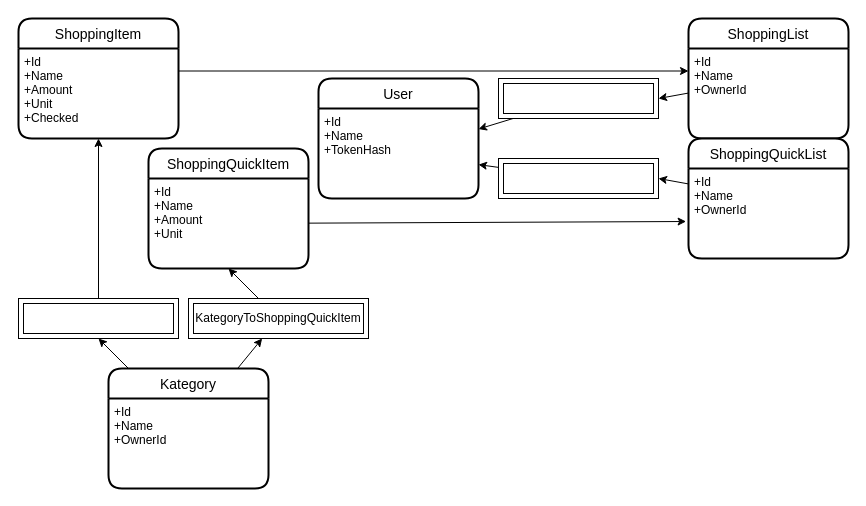
Image size: 866x506. Some labels were removed from this diagram. The centre of each missing label's shape, as x and y in pixels:
KategoryToShoppingItem: (x=98, y=318)
ShoppingListToUser: (x=578, y=98)
ShoppingQuickListToUser: (x=578, y=178)
